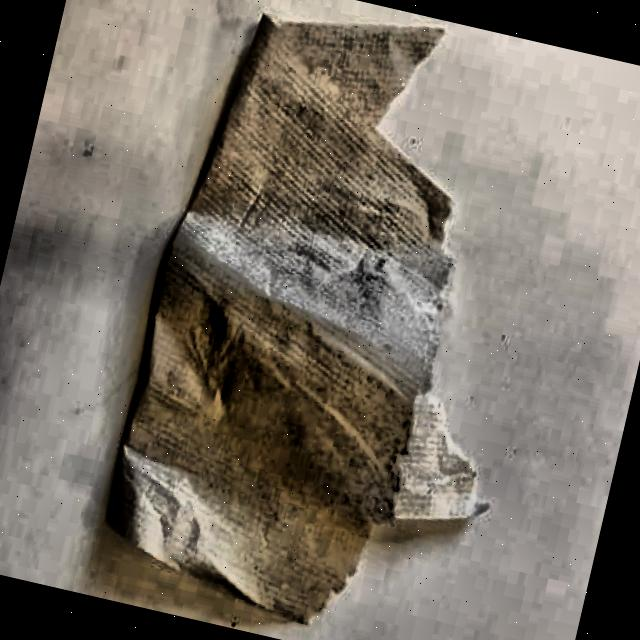trash: (88, 0, 507, 583)
